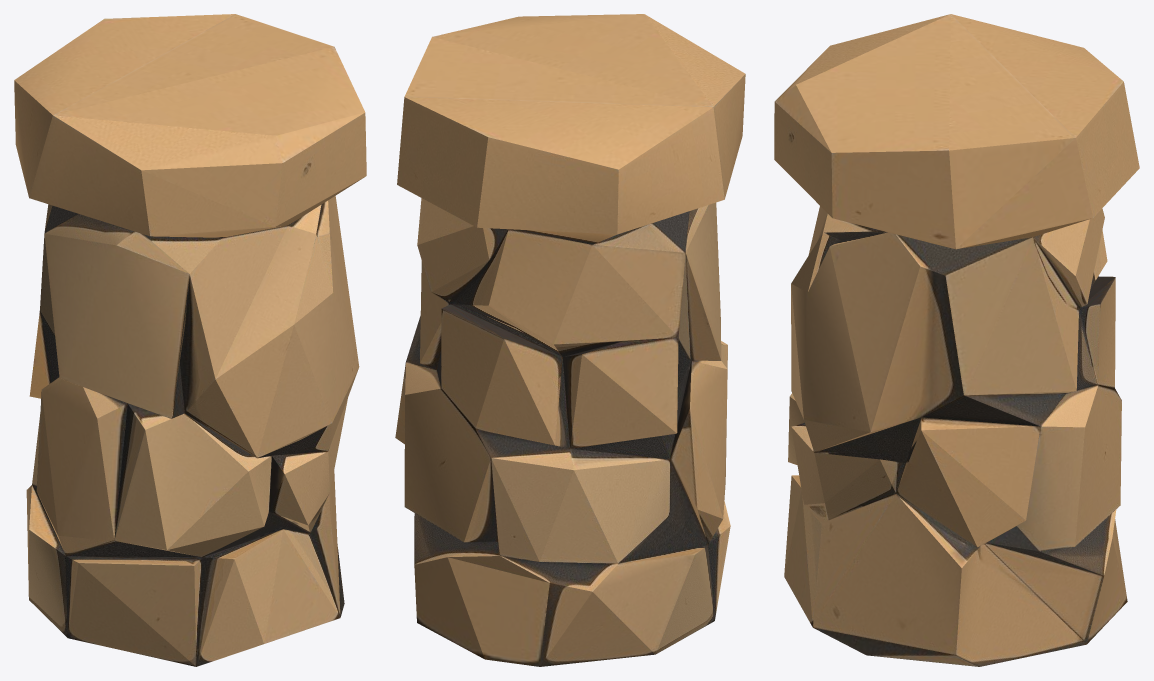
Rendered from pilar-torre.glb.
3 renders of one model, left to right at view 1: azimuth 30°, elevation 25°; view 2: azimuth 150°, elevation 25°; view 3: azimuth 270°, elevation 25°, orthographic.
Bounding box in the file's own units: 1.17 × 1.9 × 1.21.
1 material, 1 textured.
